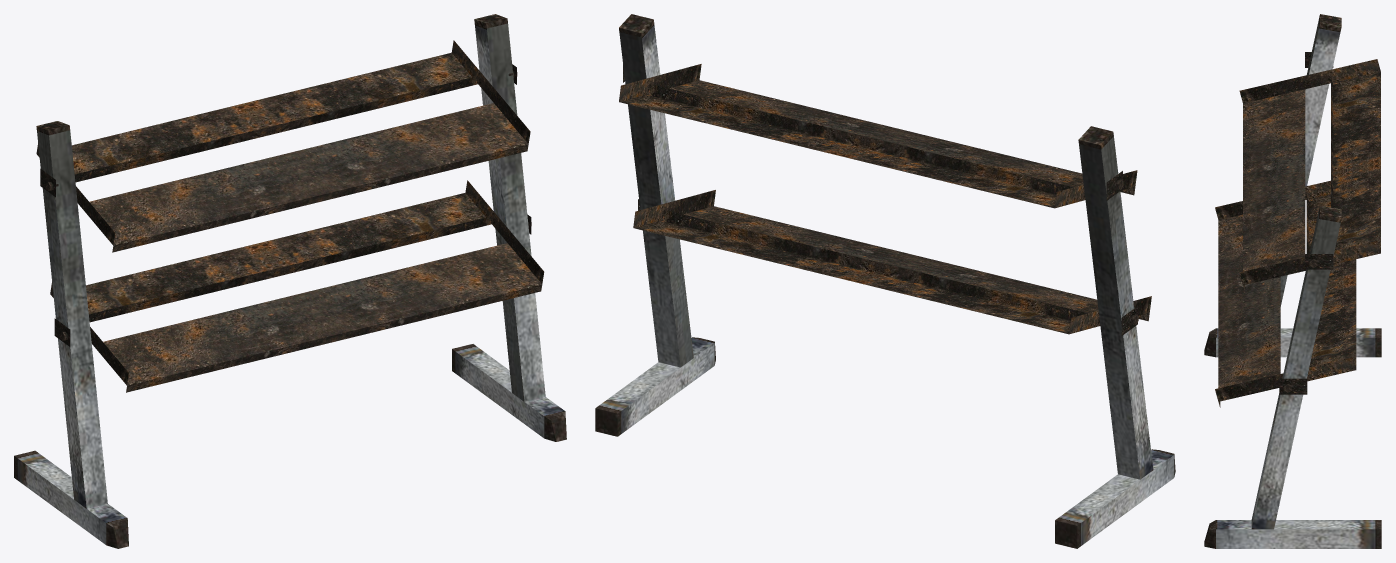
File: dumbell_rack.fbx
3 renders of one model, left to right at view 1: azimuth 30°, elevation 25°; view 2: azimuth 150°, elevation 25°; view 3: azimuth 270°, elevation 25°, orthographic. The views are drawn at different scales.
Visible parts, largest first — view 1: dumbbell_rack_GEO, pCube1, pCube4; view 2: dumbbell_rack_GEO, pCube4, pCube1; view 3: dumbbell_rack_GEO, pCube4, pCube1.
Boxes of the visible parts, x1,y1,x2,y2 form: dumbbell_rack_GEO: (14,14,566,548); pCube1: (86,186,544,385); pCube4: (36,41,530,249); dumbbell_rack_GEO: (595,14,1175,548); pCube4: (619,64,1137,208); pCube1: (633,203,1099,334); dumbbell_rack_GEO: (1204,14,1381,548); pCube4: (1240,60,1380,290); pCube1: (1215,181,1356,401).
Bounding box in the file's own units: 227 × 173 × 83.15.
Materials: 1 (1 with a texture image).
